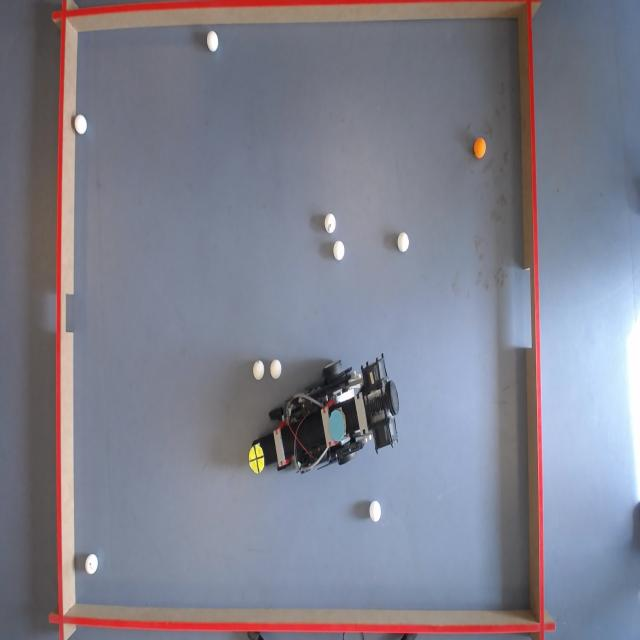orange: (474, 138, 489, 159)
robot: (249, 360, 406, 473)
robot-front: (248, 442, 264, 475)
robot-rear: (329, 411, 347, 443)
white: (368, 500, 382, 522), (75, 114, 88, 136), (207, 31, 220, 52), (87, 555, 100, 576), (397, 233, 409, 254), (333, 240, 345, 261), (271, 359, 284, 378), (324, 213, 336, 232), (252, 360, 263, 380)
